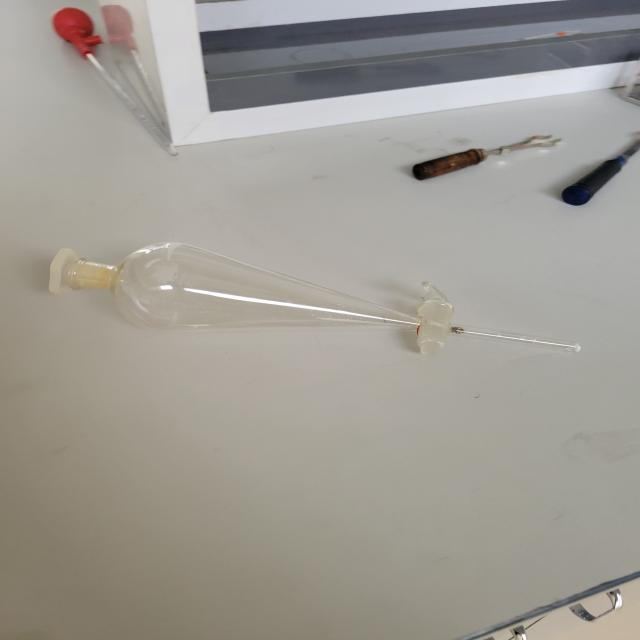Separating_Funnel: (22, 218, 597, 427)
